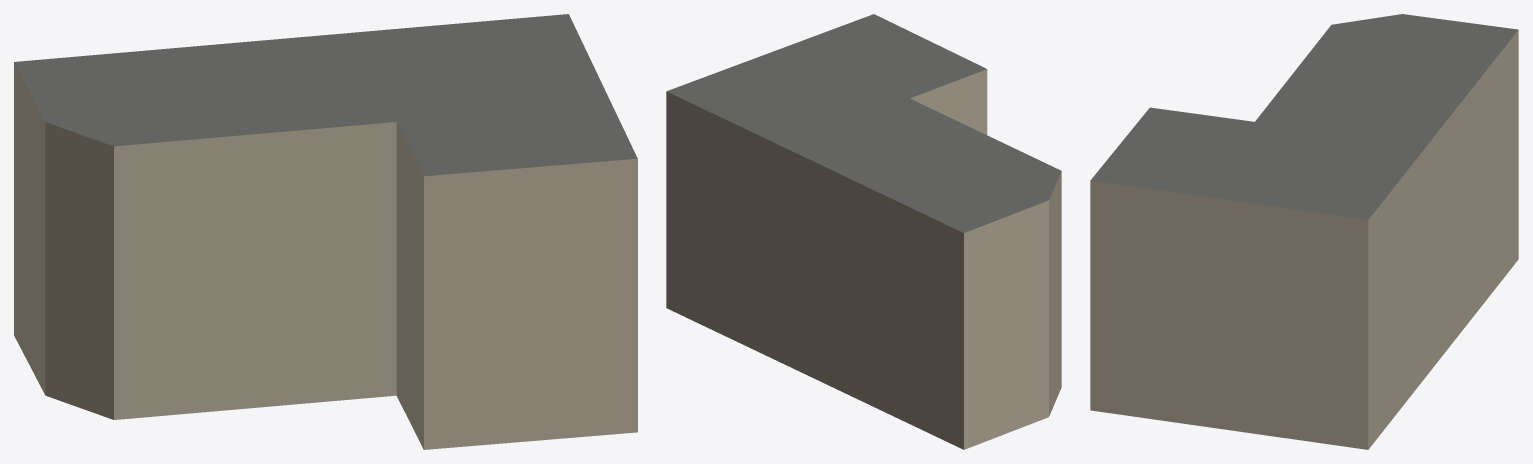
The picture shows the model from 3 angles, left to right: view 1: azimuth 30°, elevation 25°; view 2: azimuth 150°, elevation 25°; view 3: azimuth 270°, elevation 25°; orthographic projection. The views are drawn at different scales.
Parts seen in each view (by area): view 1: tuile; view 2: tuile; view 3: tuile.
Part boxes in pixels (bbox=[...]): tuile: bbox=[14, 14, 637, 449]; tuile: bbox=[666, 14, 1061, 449]; tuile: bbox=[1090, 14, 1518, 449].
Size of the model in its own units: 17.2 by 8.94 by 15.1.
